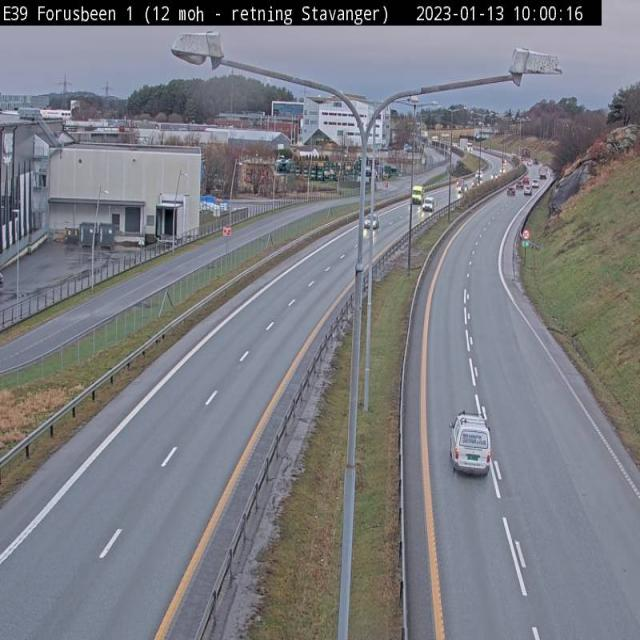vehicle: (449, 410, 494, 478), (450, 412, 490, 474), (411, 185, 424, 205), (364, 214, 378, 229), (422, 196, 434, 211), (458, 137, 467, 150), (456, 180, 463, 193), (523, 184, 531, 195), (539, 167, 546, 179), (507, 185, 515, 195), (522, 175, 530, 185), (516, 180, 524, 189), (531, 179, 538, 187), (533, 158, 538, 164)
